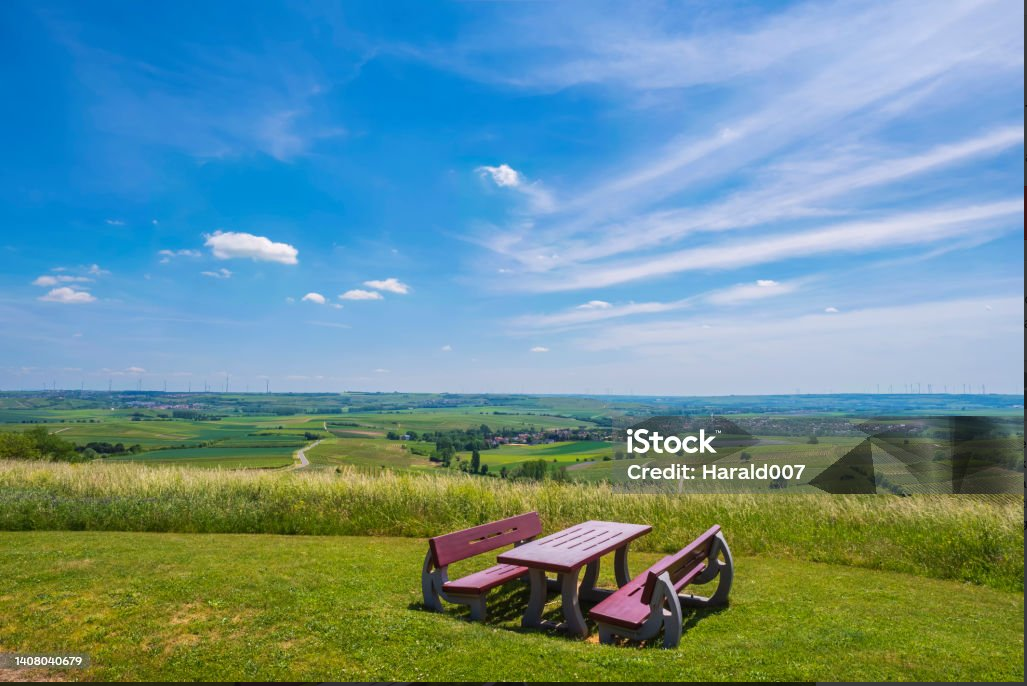obstacle: (416, 503, 742, 648)
